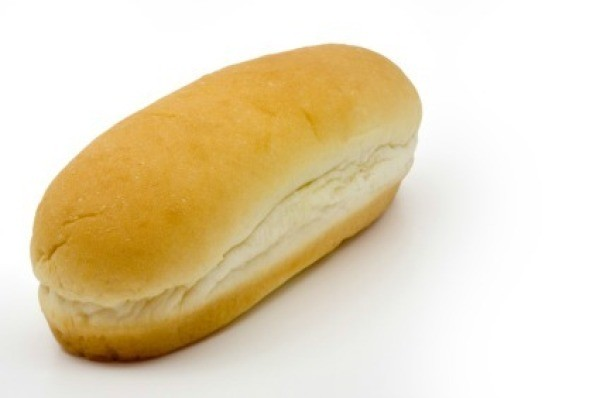hamburger_buns: (17, 30, 456, 370)
